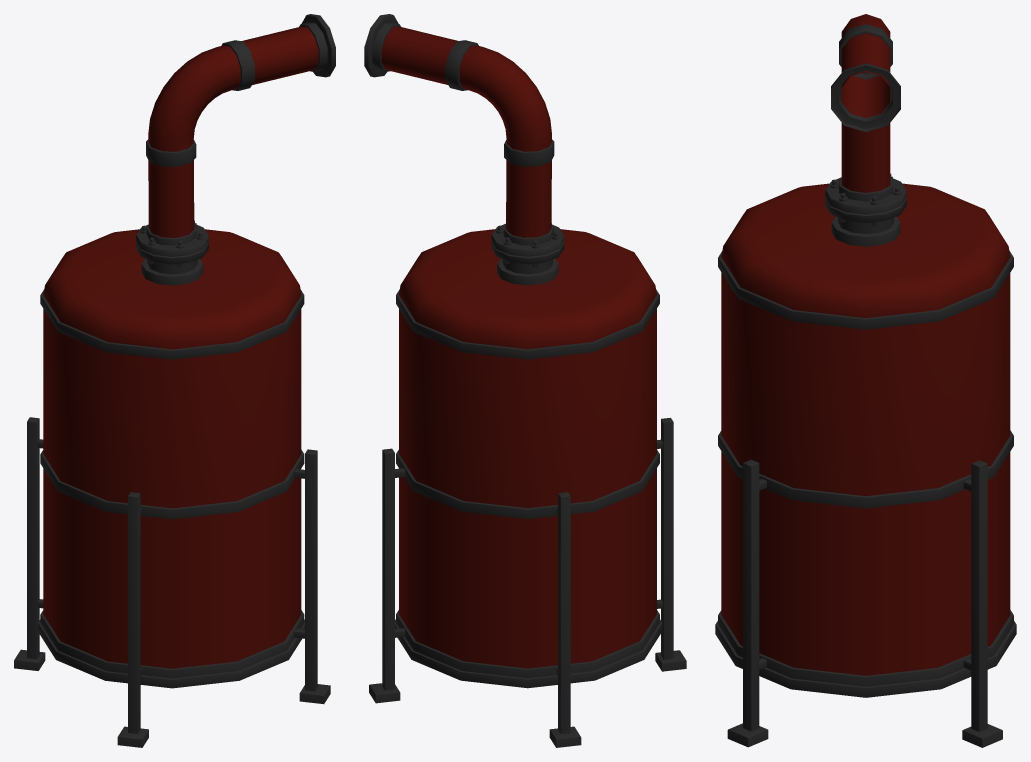
File: fluidTank.fbx
3 renders of one model, left to right at view 1: azimuth 30°, elevation 25°; view 2: azimuth 150°, elevation 25°; view 3: azimuth 270°, elevation 25°, orthographic. The views are drawn at different scales.
Parts seen in each view (by area): view 1: fluid, fluidTank; view 2: fluid, fluidTank; view 3: fluid, fluidTank.
Boxes of the visible parts, <box> form: fluid: <box>43,26,318,668</box>; fluidTank: <box>14,14,335,747</box>; fluid: <box>381,26,656,668</box>; fluidTank: <box>364,14,686,747</box>; fluid: <box>721,14,1010,675</box>; fluidTank: <box>715,24,1016,747</box>.
Bounding box in the file's own units: 200 × 455 × 176.
